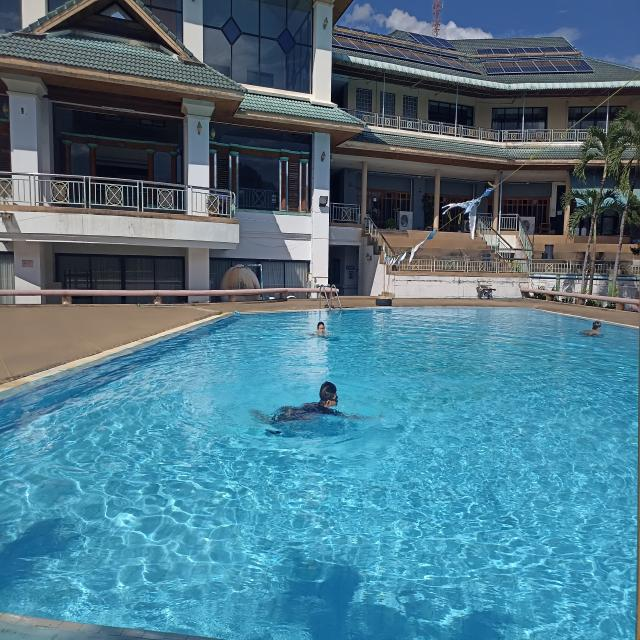Swimming: (259, 371, 370, 445), (576, 318, 606, 344), (313, 322, 337, 342)
